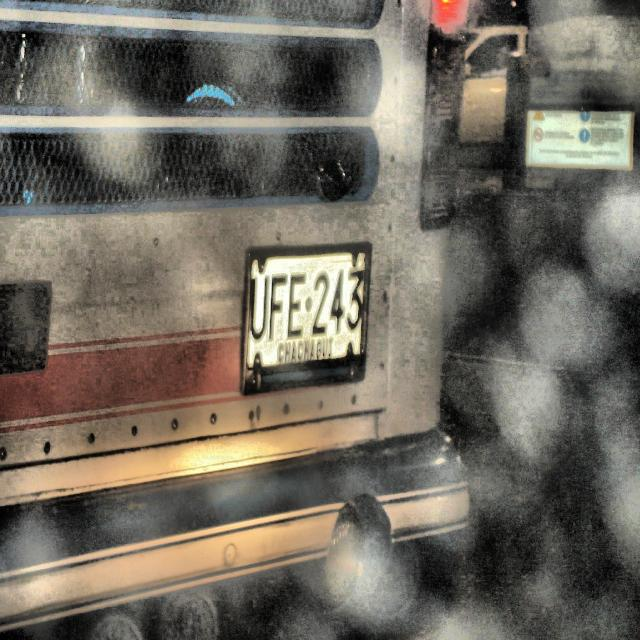plate: (240, 241, 373, 396)
